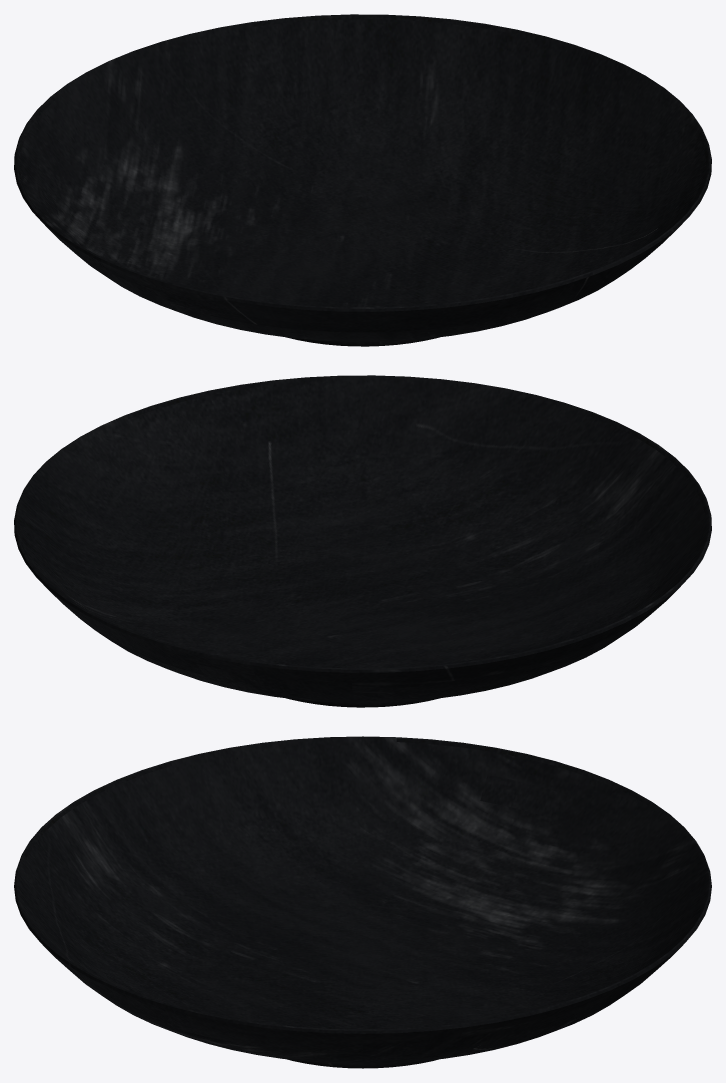
File: JapanesePlate.fbx
3 renders of one model, top to bottom at view 1: azimuth 30°, elevation 25°; view 2: azimuth 150°, elevation 25°; view 3: azimuth 270°, elevation 25°, orthographic.
Visible parts, largest first — view 1: small plate; view 2: small plate; view 3: small plate.
Part boxes in pixels (bbox=[...]): small plate: bbox=[14, 14, 711, 346]; small plate: bbox=[14, 375, 711, 707]; small plate: bbox=[14, 736, 711, 1068].
Size of the model in its own units: 11.09 by 2.17 by 11.09.
1 material, 1 textured.
